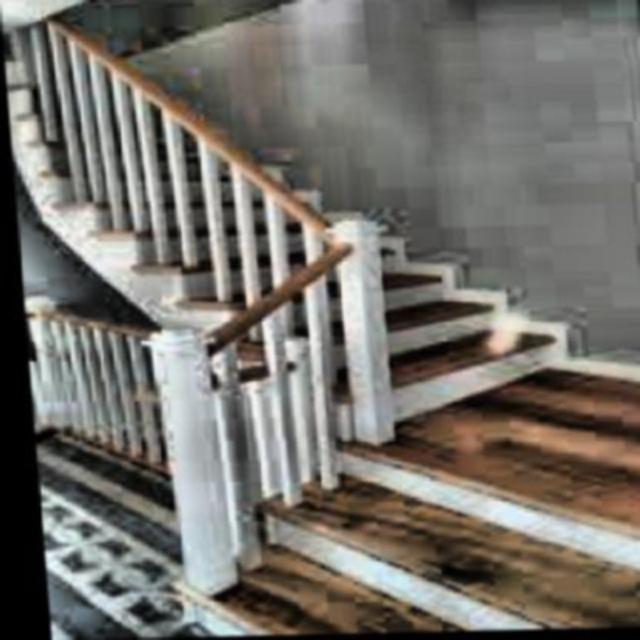stair: (5, 59, 568, 408), (99, 440, 638, 637)
